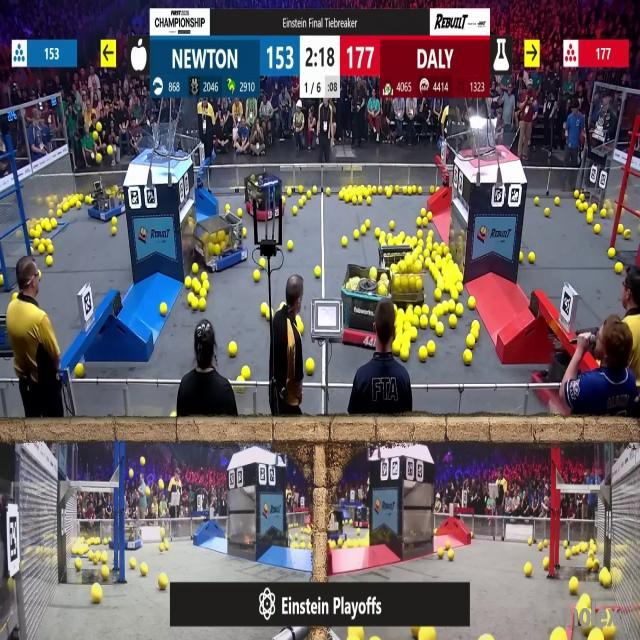ball_airborne: (107, 145, 113, 155), (94, 132, 100, 142), (97, 152, 102, 162), (97, 122, 102, 132), (160, 481, 165, 490), (146, 488, 150, 497)
ball_ground: (93, 586, 103, 604), (600, 570, 610, 586), (569, 579, 578, 596), (160, 573, 169, 589), (603, 626, 614, 639), (582, 594, 591, 609), (553, 630, 566, 640), (294, 317, 302, 333), (307, 358, 315, 373), (464, 350, 472, 364), (420, 348, 428, 362), (230, 343, 238, 357), (427, 343, 435, 357), (242, 366, 251, 378), (400, 348, 408, 361), (102, 566, 110, 579), (466, 336, 474, 349), (76, 363, 84, 376), (524, 563, 532, 576), (262, 302, 269, 316), (435, 323, 443, 335), (456, 305, 464, 317), (420, 316, 428, 328), (140, 563, 148, 575), (450, 316, 458, 327), (414, 263, 422, 274), (161, 304, 168, 316), (434, 288, 441, 300), (253, 271, 260, 283), (75, 558, 82, 570), (392, 342, 399, 354), (468, 296, 475, 308), (443, 302, 450, 314), (432, 306, 440, 316), (411, 237, 419, 247), (412, 327, 418, 340), (200, 300, 207, 311), (45, 255, 52, 266), (429, 316, 436, 327), (413, 316, 420, 327), (449, 289, 456, 300), (617, 264, 623, 276), (315, 267, 321, 279), (542, 558, 548, 570), (588, 212, 594, 224), (191, 300, 197, 312), (184, 278, 191, 288), (131, 558, 138, 568), (187, 293, 194, 303), (449, 302, 456, 312), (191, 279, 198, 289), (456, 282, 463, 292), (408, 306, 415, 316), (416, 279, 423, 289), (608, 248, 614, 259), (102, 553, 108, 564), (38, 245, 45, 254), (422, 306, 429, 315), (564, 551, 571, 560), (387, 235, 394, 244), (595, 223, 601, 233), (287, 241, 293, 251), (529, 252, 535, 262), (191, 265, 197, 275), (259, 257, 265, 267), (342, 237, 348, 247), (588, 559, 594, 569), (390, 220, 396, 230), (483, 634, 493, 640), (50, 218, 56, 228), (405, 324, 411, 334), (89, 552, 95, 562), (0, 274, 4, 288), (416, 247, 423, 255), (437, 549, 442, 560), (555, 198, 561, 207), (46, 246, 52, 255), (417, 217, 423, 226), (625, 231, 631, 240), (471, 320, 477, 329), (201, 288, 207, 297), (298, 199, 304, 208), (415, 307, 421, 316), (266, 312, 272, 321), (238, 209, 244, 218), (418, 238, 424, 247), (575, 202, 581, 211), (572, 189, 578, 198), (365, 219, 371, 228), (449, 551, 454, 561), (243, 229, 248, 239), (202, 273, 208, 281), (417, 232, 423, 240), (424, 249, 430, 257), (427, 212, 433, 220), (578, 192, 584, 200), (297, 185, 303, 193), (34, 240, 40, 248), (430, 250, 436, 258), (426, 243, 432, 251), (432, 242, 438, 250), (140, 457, 146, 465), (583, 204, 589, 212), (111, 226, 116, 235), (204, 281, 209, 290), (537, 198, 542, 207), (421, 208, 426, 217), (360, 225, 365, 234), (601, 209, 606, 218), (399, 233, 404, 242), (312, 186, 318, 193), (12, 292, 18, 299), (286, 188, 292, 195), (428, 186, 434, 193), (325, 188, 331, 195), (442, 243, 448, 250), (354, 232, 359, 240), (292, 207, 297, 215), (376, 230, 381, 238), (76, 202, 81, 210), (520, 252, 524, 262), (428, 231, 433, 239), (161, 542, 166, 550), (387, 189, 392, 197), (458, 274, 463, 282), (418, 186, 423, 194), (366, 198, 371, 206), (340, 190, 345, 198), (381, 238, 386, 246), (447, 540, 452, 548), (357, 198, 362, 206), (224, 204, 229, 212), (544, 208, 548, 217), (162, 528, 166, 537), (64, 204, 68, 213), (112, 217, 116, 225), (620, 224, 624, 232), (538, 542, 542, 550), (308, 190, 312, 198), (58, 210, 62, 218), (282, 197, 286, 205), (48, 210, 52, 218), (130, 468, 134, 476), (542, 540, 547, 546), (528, 538, 532, 545), (564, 540, 568, 547), (433, 528, 437, 535), (104, 538, 108, 544), (473, 535, 476, 541)
goal: (466, 121, 520, 160), (127, 130, 187, 159)
robot_blue: (194, 215, 247, 272), (87, 179, 125, 221), (125, 524, 144, 550)
robot_red: (340, 262, 384, 346), (534, 354, 586, 411), (243, 168, 283, 220), (352, 507, 371, 529)
